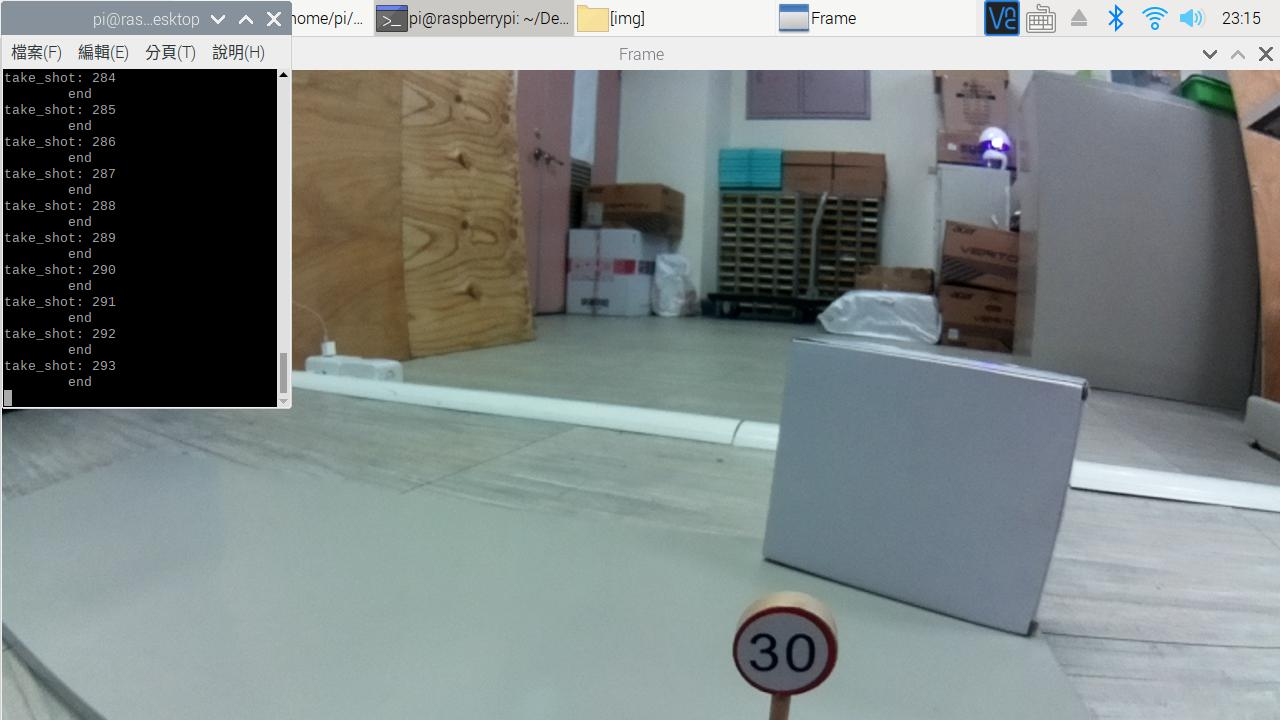Speed30: (706, 586, 868, 701)
